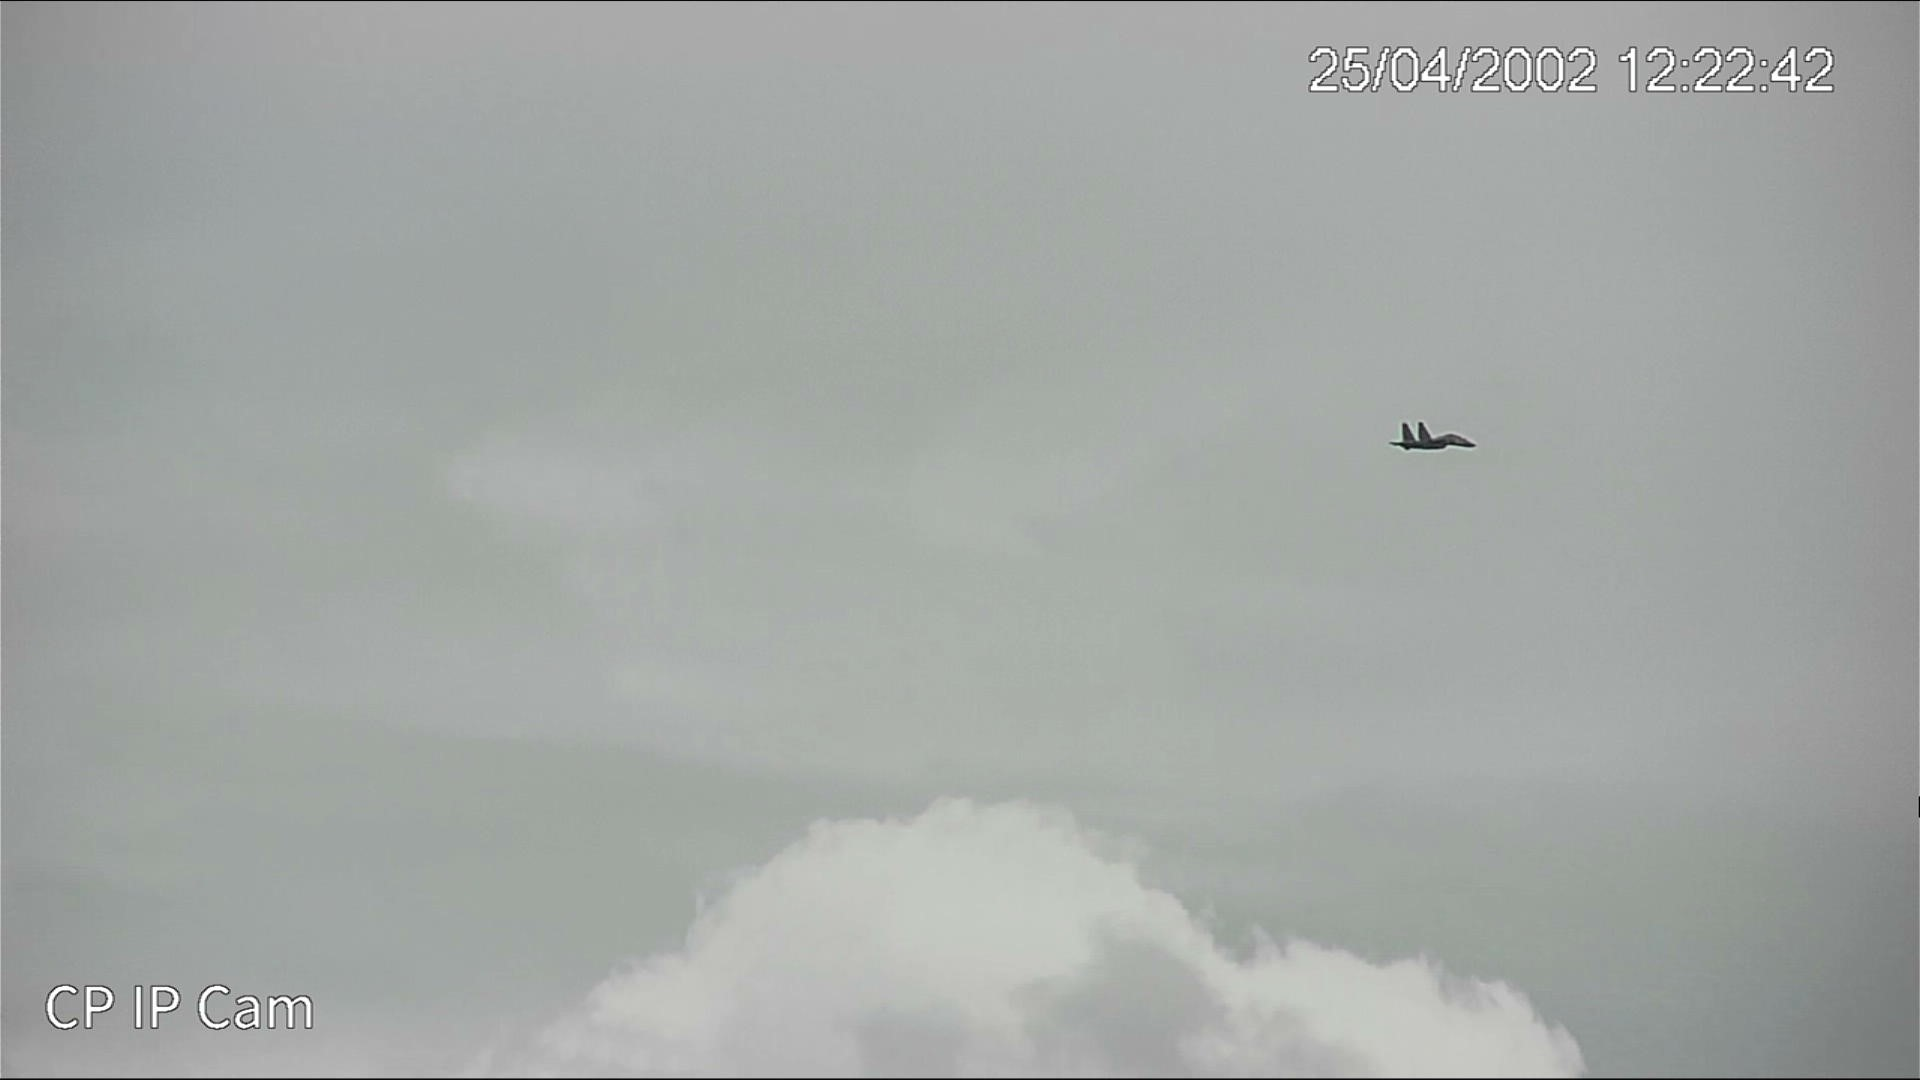SU_30: (1393, 415, 1472, 455)
